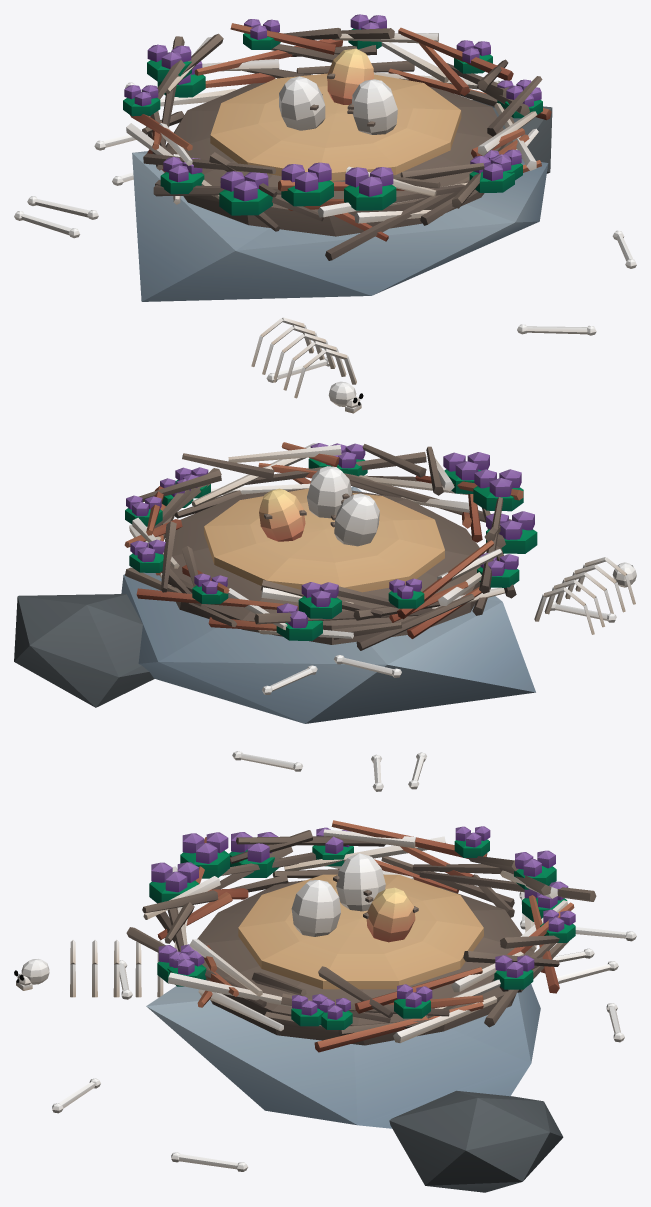
File: wyvern_nest.glb
3 renders of one model, top to bottom at view 1: azimuth 30°, elevation 25°; view 2: azimuth 150°, elevation 25°; view 3: azimuth 270°, elevation 25°, orthographic. The views are drawn at different scales.
Visible parts, largest first — view 1: wyvern_nest; view 2: wyvern_nest; view 3: wyvern_nest.
Boxes of the visible parts, left/top/right/bottom form: wyvern_nest: left=14, top=14, right=636, bottom=413; wyvern_nest: left=14, top=442, right=636, bottom=791; wyvern_nest: left=14, top=820, right=636, bottom=1192.
Size of the model in its own units: 5.66 by 2.53 by 6.27.
Materials: 1 (1 with a texture image).
